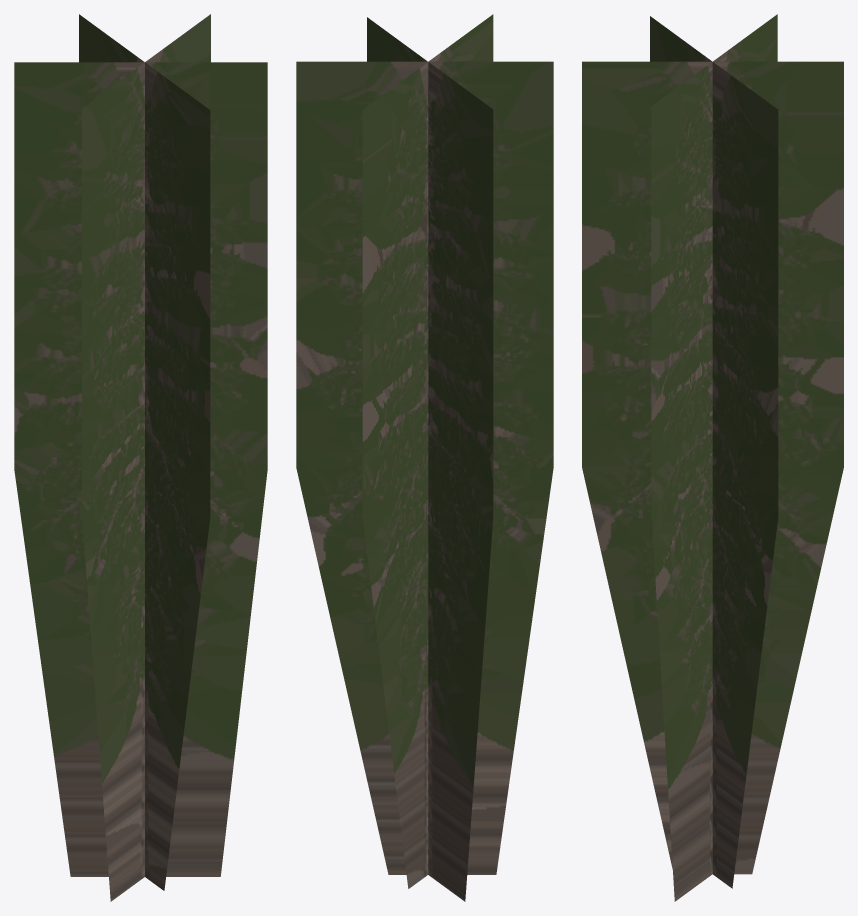
Rendered from spruce_tree_a_billboad.fbx.
3 renders of one model, left to right at view 1: azimuth 30°, elevation 25°; view 2: azimuth 150°, elevation 25°; view 3: azimuth 270°, elevation 25°, orthographic.
Parts seen in each view (by area): view 1: Billboard; view 2: Billboard; view 3: Billboard.
Part boxes in pixels (box(x1,y1,x2,y2)): Billboard: box(14, 14, 267, 901); Billboard: box(296, 14, 553, 901); Billboard: box(582, 14, 843, 901).
Bounding box in the file's own units: 1046 × 4133 × 1206.
